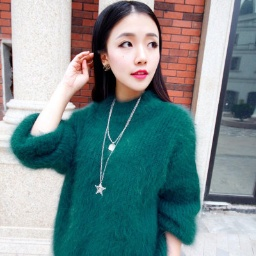face: (92, 2, 167, 96)
